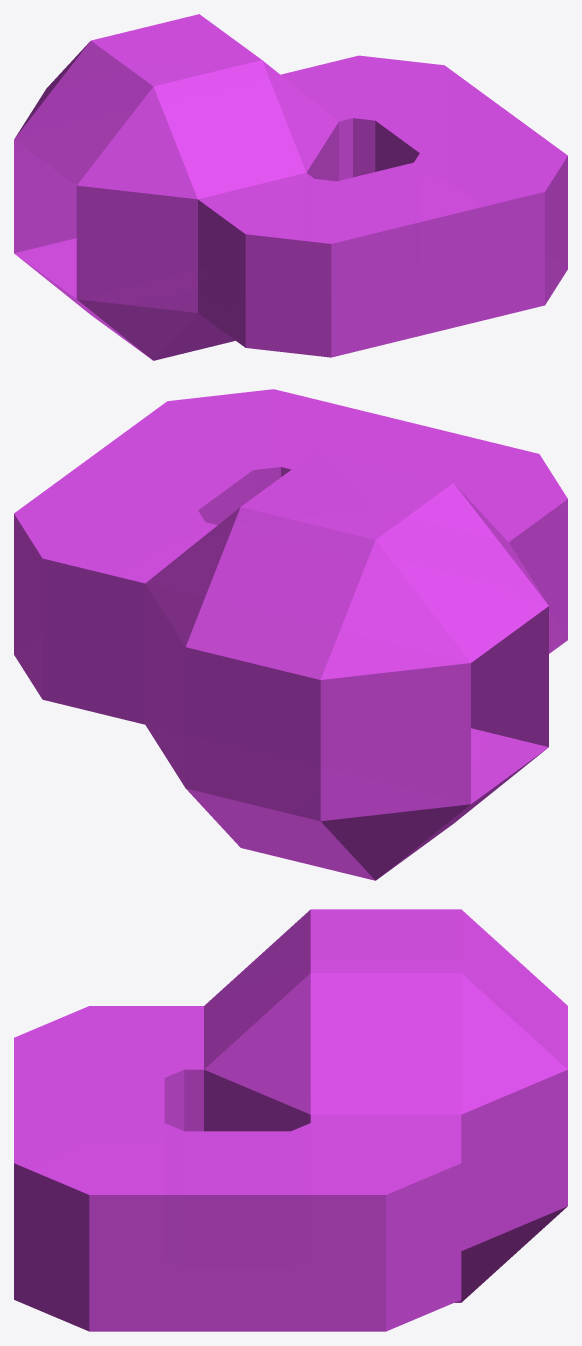
Rendered from Rhombicuboctahedron.obj.
The picture shows the model from 3 angles, top to bottom: view 1: azimuth 30°, elevation 25°; view 2: azimuth 150°, elevation 25°; view 3: azimuth 270°, elevation 25°; orthographic projection. The views are drawn at different scales.
Bounding box in the file's own units: 4.22 × 2.77 × 4.22.
